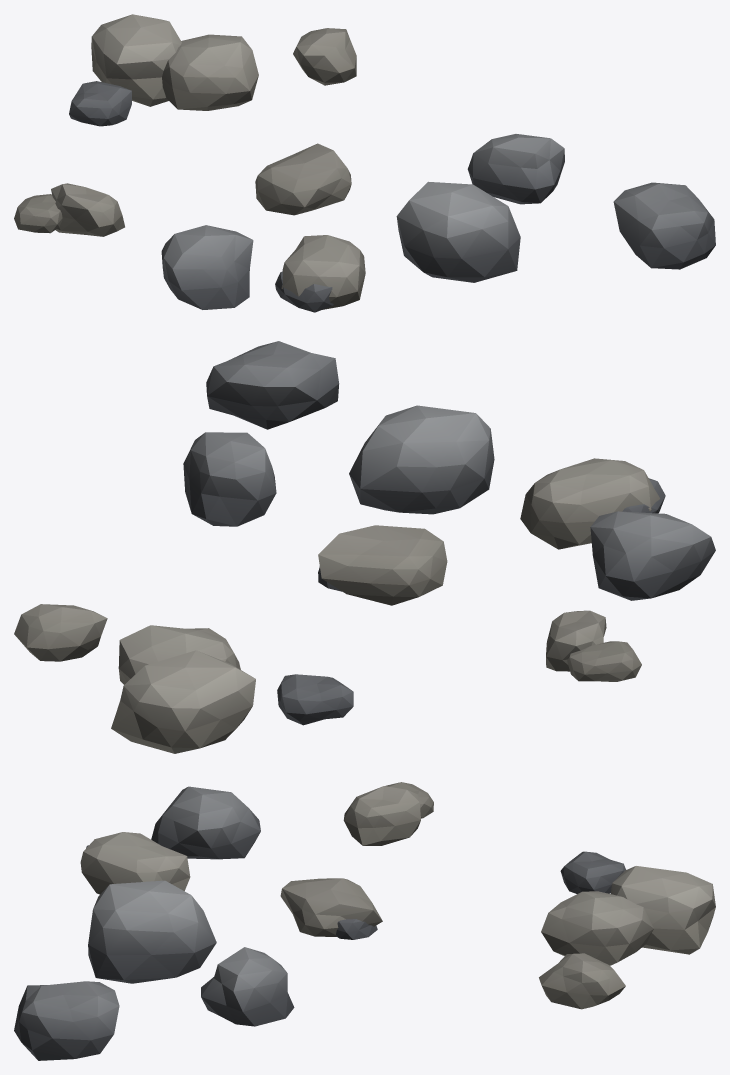
Rendered from Scree.fbx.
3 views of the same model, one above another, from view 1: azimuth 30°, elevation 25°; view 2: azimuth 150°, elevation 25°; view 3: azimuth 270°, elevation 25° (orthographic). The views are drawn at different scales.
Visible parts, largest first — view 1: Scree_LOD0; view 2: Scree_LOD0; view 3: Scree_LOD0.
Boxes of the visible parts, x1=… form: Scree_LOD0: x1=14, y1=14, x2=715, y2=312; Scree_LOD0: x1=14, y1=341, x2=715, y2=753; Scree_LOD0: x1=14, y1=782, x2=715, y2=1060.
Size of what is drawn, in the model's own units: 4.87 by 0.6767 by 5.68.
Materials: 1 (1 with a texture image).
